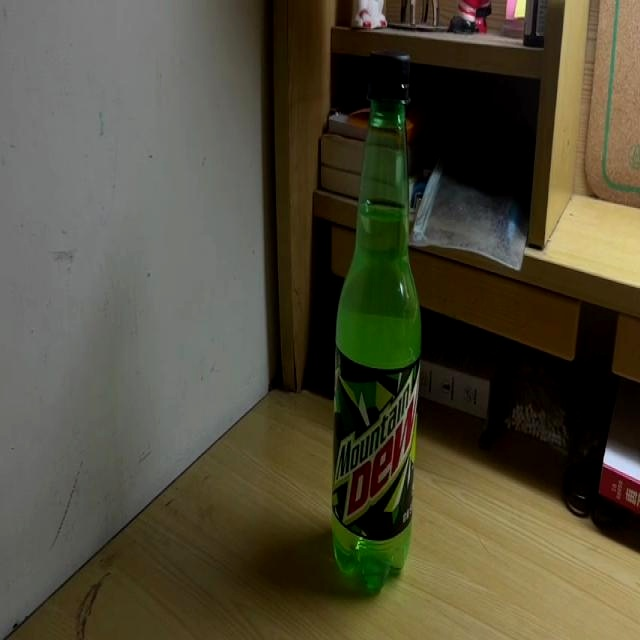Mountain-Dew: (332, 55, 421, 593)
